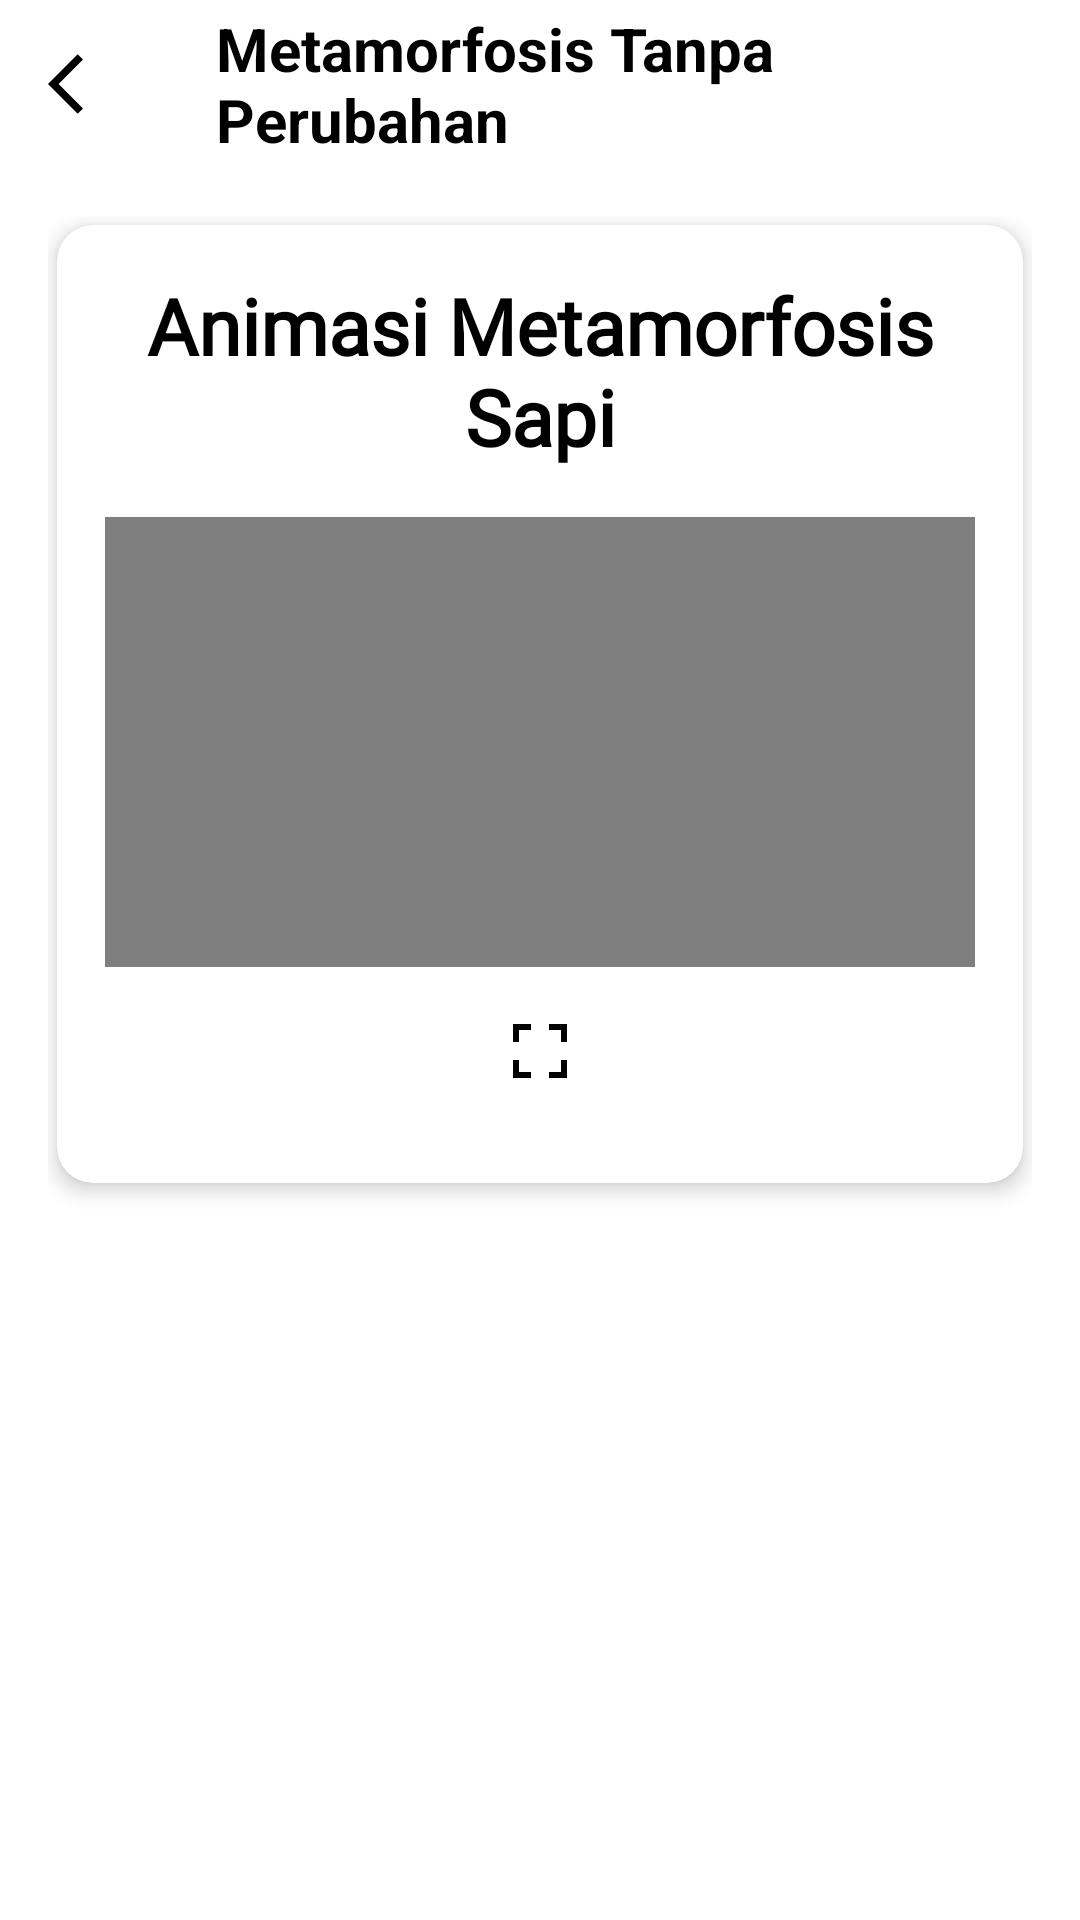

Icon click points for this 1080px x 1920px phone screenshot, format [x,y]:
Fullscreen: [540,1051]
